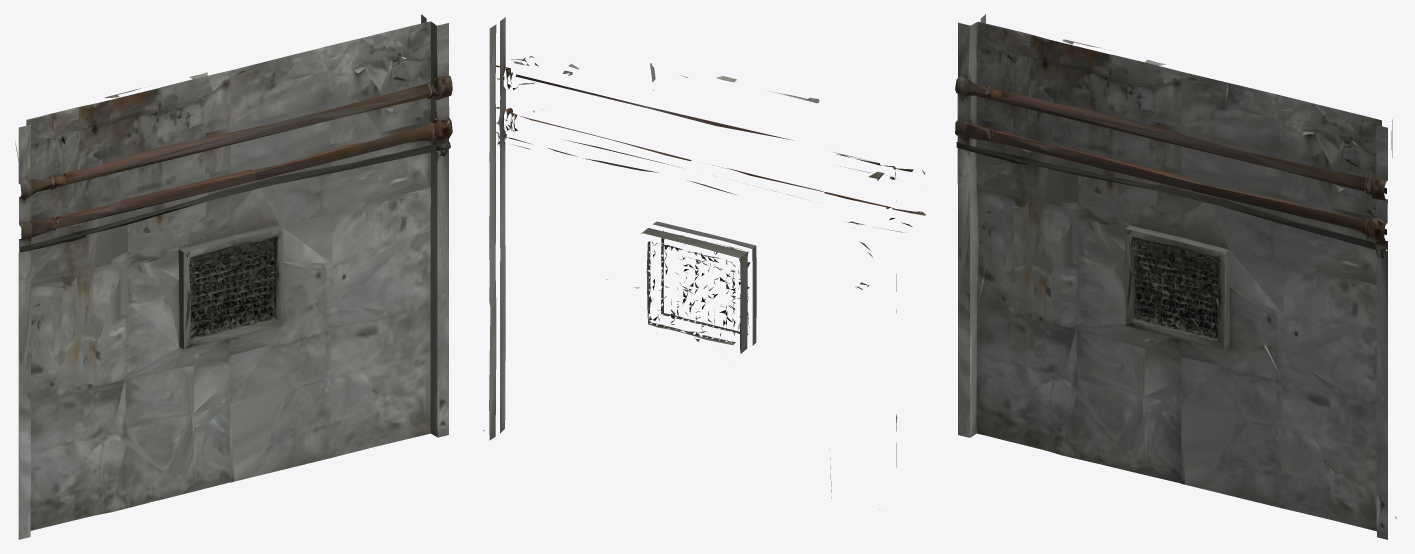
File: room_bunker_wall_3_idle.glb
The picture shows the model from 3 angles, left to right: view 1: azimuth 30°, elevation 25°; view 2: azimuth 150°, elevation 25°; view 3: azimuth 330°, elevation 25°; orthographic projection.
Visible parts, largest first — view 1: tripo_node_d9ba6461-4d08-448f-a682-a00aa6358f9d; view 2: tripo_node_d9ba6461-4d08-448f-a682-a00aa6358f9d; view 3: tripo_node_d9ba6461-4d08-448f-a682-a00aa6358f9d.
Boxes of the visible parts, <box> form: tripo_node_d9ba6461-4d08-448f-a682-a00aa6358f9d: <box>15,14,452,539</box>; tripo_node_d9ba6461-4d08-448f-a682-a00aa6358f9d: <box>483,17,925,509</box>; tripo_node_d9ba6461-4d08-448f-a682-a00aa6358f9d: <box>955,14,1396,539</box>.
Bounding box in the file's own units: 3.28 × 3.01 × 0.3027.
1 material, 1 textured.
